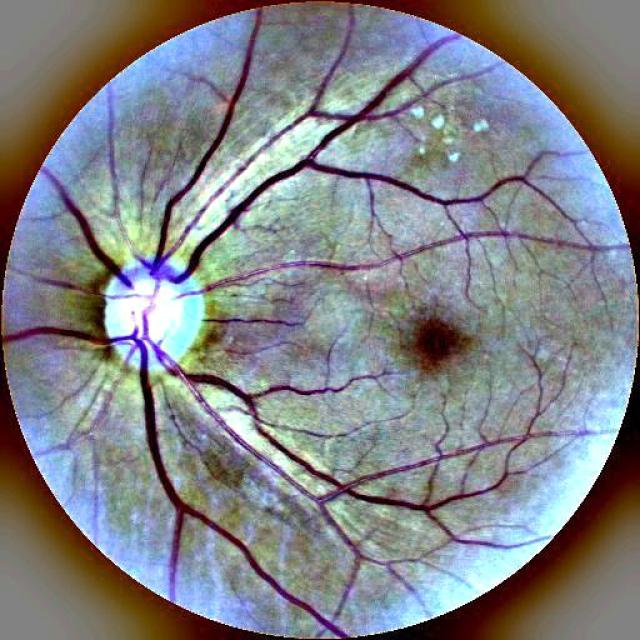Macula: (414, 318, 469, 370)
Nerves: (8, 24, 542, 631)
Optic Disk: (105, 256, 204, 360)
